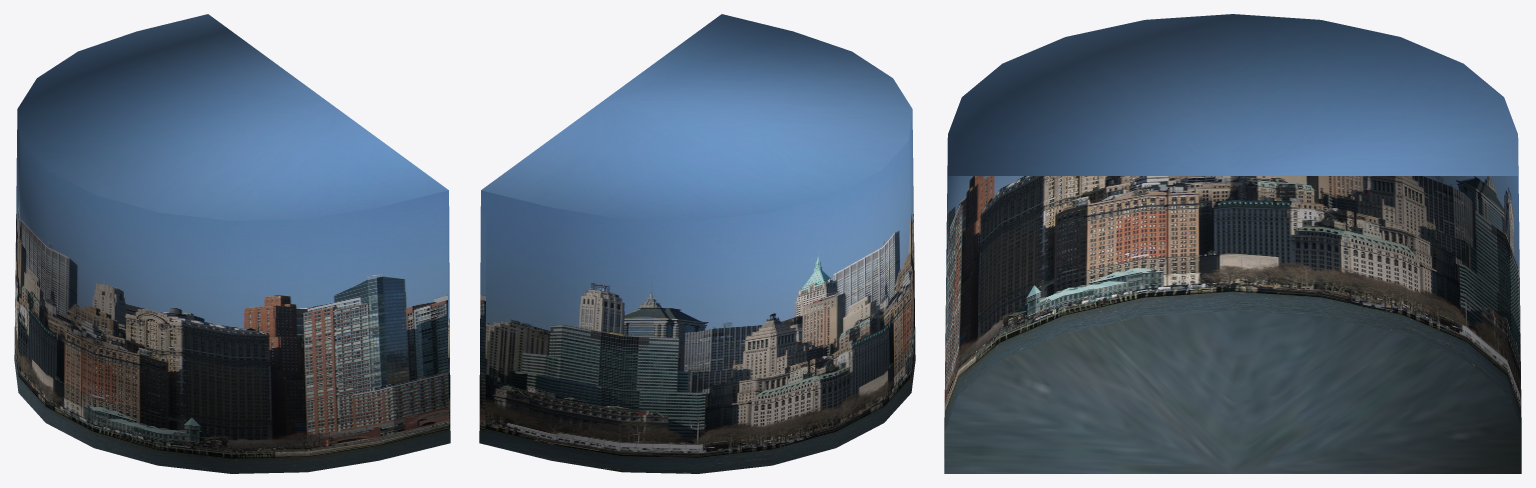
Rendered from mdl_skyline.fbx.
3 renders of one model, left to right at view 1: azimuth 30°, elevation 25°; view 2: azimuth 150°, elevation 25°; view 3: azimuth 270°, elevation 25°, orthographic. The views are drawn at different scales.
Parts seen in each view (by area): view 1: pSphere1; view 2: pSphere1; view 3: pSphere1.
Boxes of the visible parts, x1,y1,x2,y2 form: pSphere1: (14,14,450,473); pSphere1: (479,14,915,473); pSphere1: (944,14,1521,473).
Size of the model in its own units: 610 by 519 by 911.
